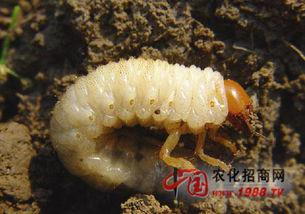grub: (41, 57, 260, 166)
